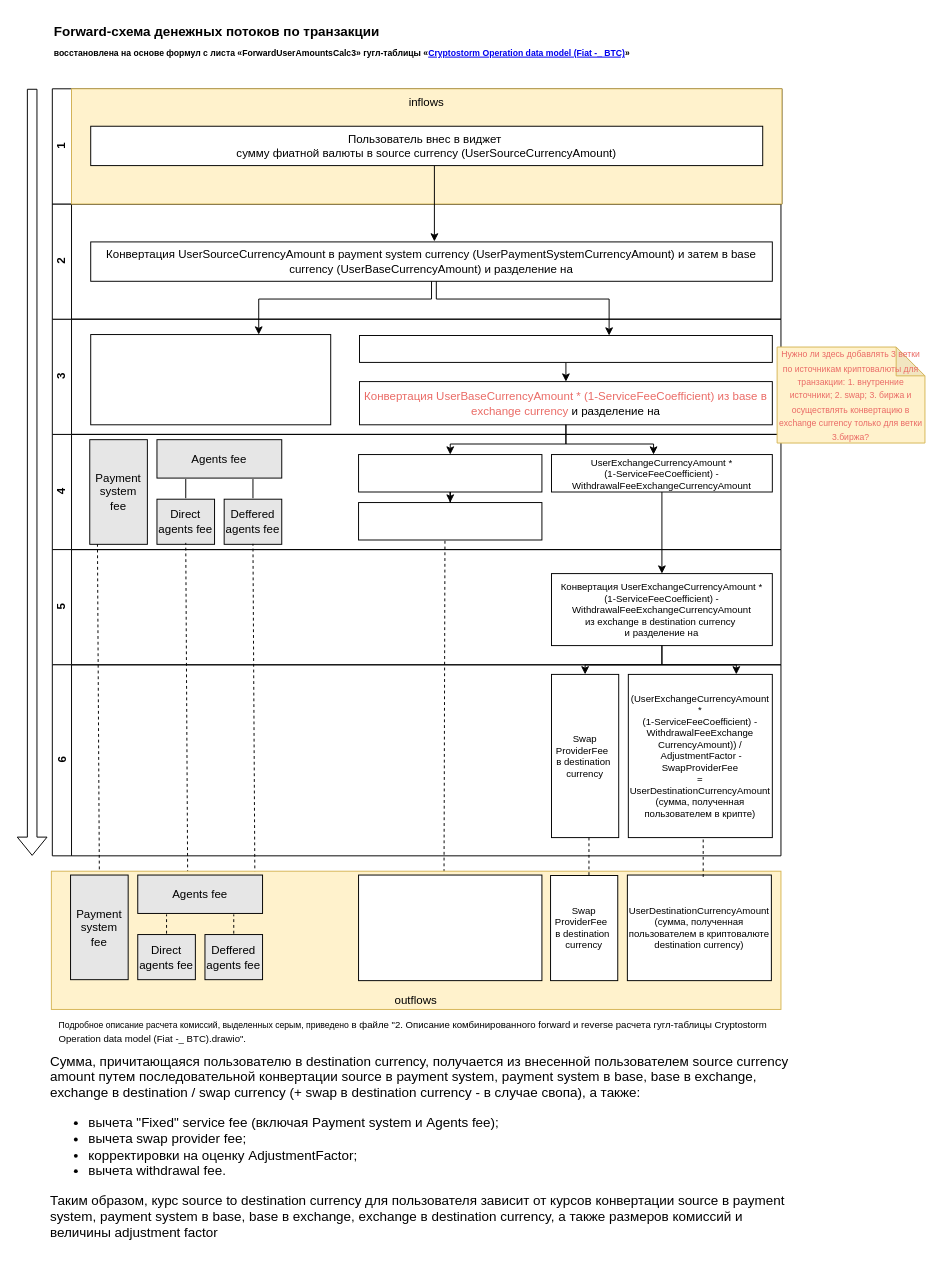
This 942x1268 diagram has some shape labels left out. The shapes that lost their labels are listed below. From the top down, each one's centre as x and y in pixels, then its label:
pixel 565 348: UserBaseCurrencyAmount*(1-ServiceFeeCoefficient)
pixel 210 379: Service fee = UserBaseCurrencyAmount * ServiceFeeCoefficient
pixel 450 473: WithdrawalFeeExchangeCurrencyAmount (WithdrawalFee в exchange currency)
pixel 450 521: Конвертация WithdrawalFeeExchangeCurrencyAmount в withdrawal currency
pixel 450 927: WithdrawalFeeExchangeCurrencyAmount в withdrawal fee currency
